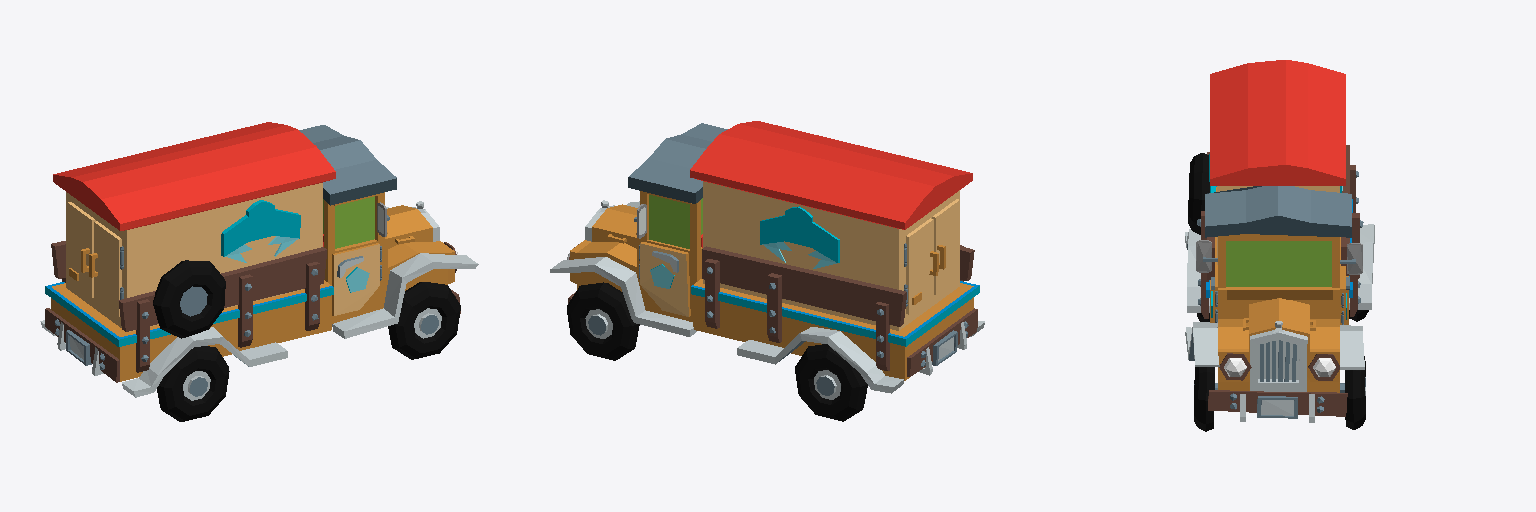
Rendered from car.obj.
The picture shows the model from 3 angles: view 1: azimuth 30°, elevation 25°; view 2: azimuth 150°, elevation 25°; view 3: azimuth 270°, elevation 25°; orthographic projection.
Visible parts, largest first — view 1: group[number redacted], group[number redacted], group[number redacted], group[number redacted], group[number redacted], group[number redacted], group[number redacted], group[number redacted], group[number redacted], group[number redacted], group[number redacted], group[number redacted] (+8 smaller); view 2: group[number redacted], group[number redacted], group[number redacted], group[number redacted], group[number redacted], group[number redacted], group[number redacted], group[number redacted], group[number redacted], group[number redacted], group[number redacted], group[number redacted] (+8 smaller); view 3: group[number redacted], group[number redacted], group[number redacted], group[number redacted], group[number redacted], group[number redacted], group[number redacted], group[number redacted], group[number redacted], group[number redacted], group[number redacted], group[number redacted] (+8 smaller).
Boxes of the visible parts, x1=… form: group[number redacted]: x1=53, y1=122, x2=335, y2=331; group[number redacted]: x1=45, y1=280, x2=333, y2=381; group[number redacted]: x1=153, y1=260, x2=225, y2=338; group[number redacted]: x1=324, y1=205, x2=454, y2=323; group[number redacted]: x1=388, y1=282, x2=460, y2=359; group[number redacted]: x1=157, y1=346, x2=229, y2=421; group[number redacted]: x1=299, y1=125, x2=396, y2=205; group[number redacted]: x1=118, y1=247, x2=326, y2=331; group[number redacted]: x1=332, y1=253, x2=478, y2=338; group[number redacted]: x1=122, y1=327, x2=287, y2=397; group[number redacted]: x1=221, y1=200, x2=300, y2=262; group[number redacted]: x1=332, y1=243, x2=379, y2=315; group[number redacted]: x1=690, y1=121, x2=972, y2=330; group[number redacted]: x1=691, y1=279, x2=979, y2=380; group[number redacted]: x1=702, y1=246, x2=906, y2=326; group[number redacted]: x1=567, y1=282, x2=639, y2=360; group[number redacted]: x1=570, y1=204, x2=702, y2=321; group[number redacted]: x1=795, y1=344, x2=867, y2=421; group[number redacted]: x1=628, y1=123, x2=727, y2=203; group[number redacted]: x1=737, y1=327, x2=903, y2=393; group[number redacted]: x1=760, y1=206, x2=839, y2=268; group[number redacted]: x1=550, y1=257, x2=696, y2=336; group[number redacted]: x1=640, y1=242, x2=690, y2=316; group[number redacted]: x1=906, y1=218, x2=933, y2=314; group[number redacted]: x1=1210, y1=60, x2=1345, y2=264; group[number redacted]: x1=1205, y1=186, x2=1351, y2=237; group[number redacted]: x1=1218, y1=287, x2=1339, y2=392; group[number redacted]: x1=1226, y1=241, x2=1331, y2=286; group[number redacted]: x1=1208, y1=390, x2=1347, y2=422; group[number redacted]: x1=1250, y1=330, x2=1307, y2=391; group[number redacted]: x1=1185, y1=322, x2=1219, y2=366; group[number redacted]: x1=1188, y1=153, x2=1209, y2=234; group[number redacted]: x1=1345, y1=356, x2=1365, y2=429; group[number redacted]: x1=1227, y1=289, x2=1332, y2=299; group[number redacted]: x1=1194, y1=367, x2=1214, y2=431; group[number redacted]: x1=1349, y1=224, x2=1374, y2=309.
Size of the model in its own units: 1.02 by 0.6127 by 0.4675.